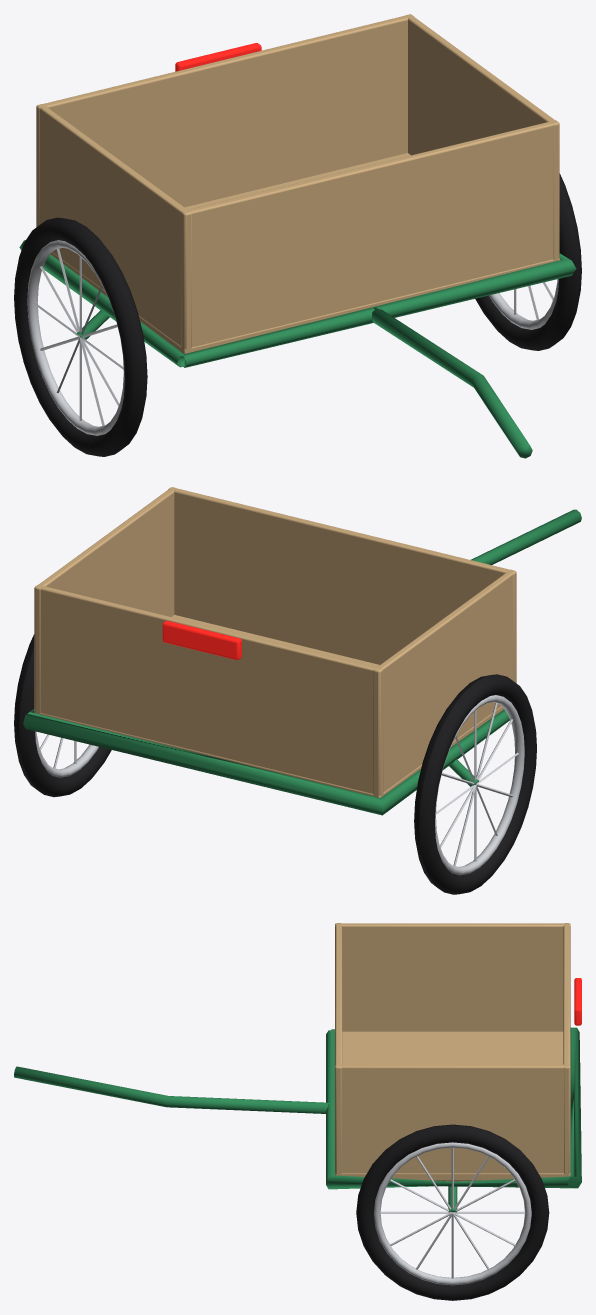
The model's file is bike_trailer.fbx.
3 renders of one model, top to bottom at view 1: azimuth 30°, elevation 25°; view 2: azimuth 150°, elevation 25°; view 3: azimuth 270°, elevation 25°, orthographic. The views are drawn at different scales.
Visible parts, largest first — view 1: bike_trailer; view 2: bike_trailer; view 3: bike_trailer.
Boxes of the visible parts, x1=… form: bike_trailer: x1=14, y1=14, x2=581, y2=458; bike_trailer: x1=14, y1=487, x2=581, y2=894; bike_trailer: x1=14, y1=923, x2=581, y2=1300.
Size of the model in its own units: 1.09 by 0.649 by 1.49.
